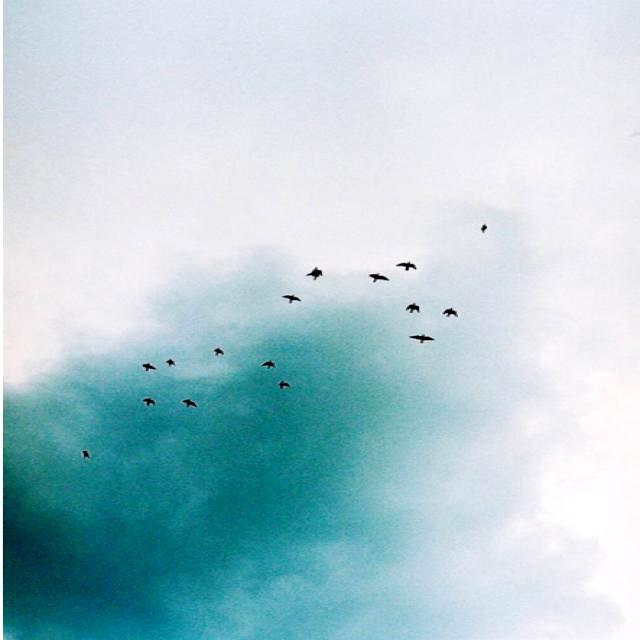bird: (77, 446, 101, 464), (304, 267, 332, 282), (404, 333, 434, 346), (402, 300, 424, 316), (367, 272, 390, 286), (279, 294, 309, 304), (274, 378, 295, 392), (442, 306, 462, 320), (136, 397, 157, 410), (397, 260, 419, 272), (256, 359, 278, 371), (137, 362, 157, 375), (210, 346, 230, 358), (180, 398, 200, 410), (476, 224, 493, 234), (164, 360, 182, 368)
